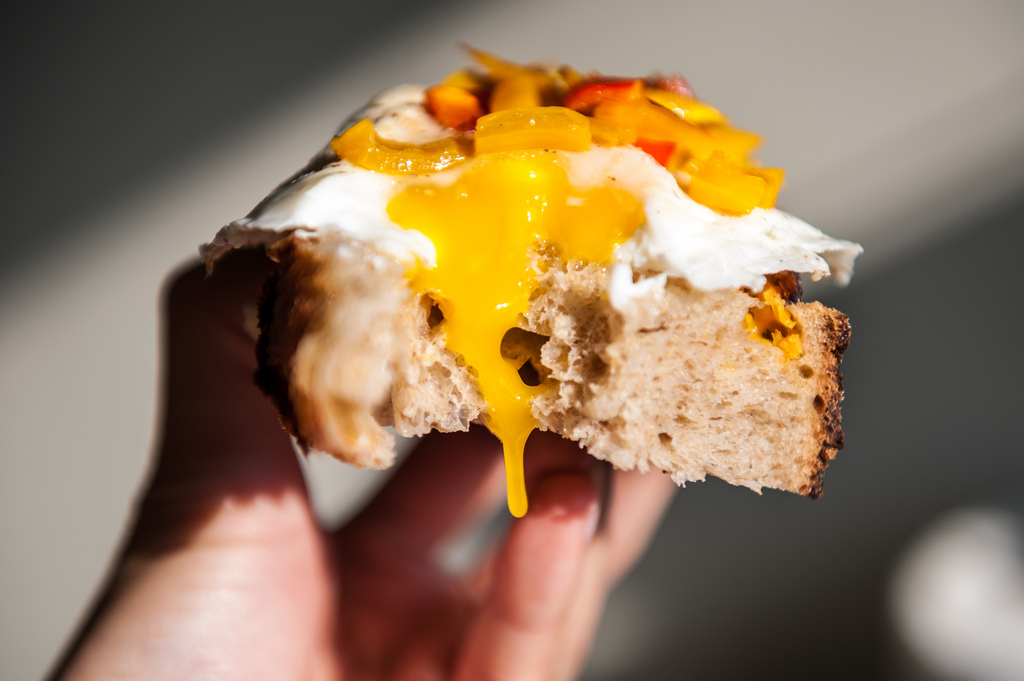fried egg: (297, 115, 805, 268)
slice of bread: (276, 290, 837, 472)
